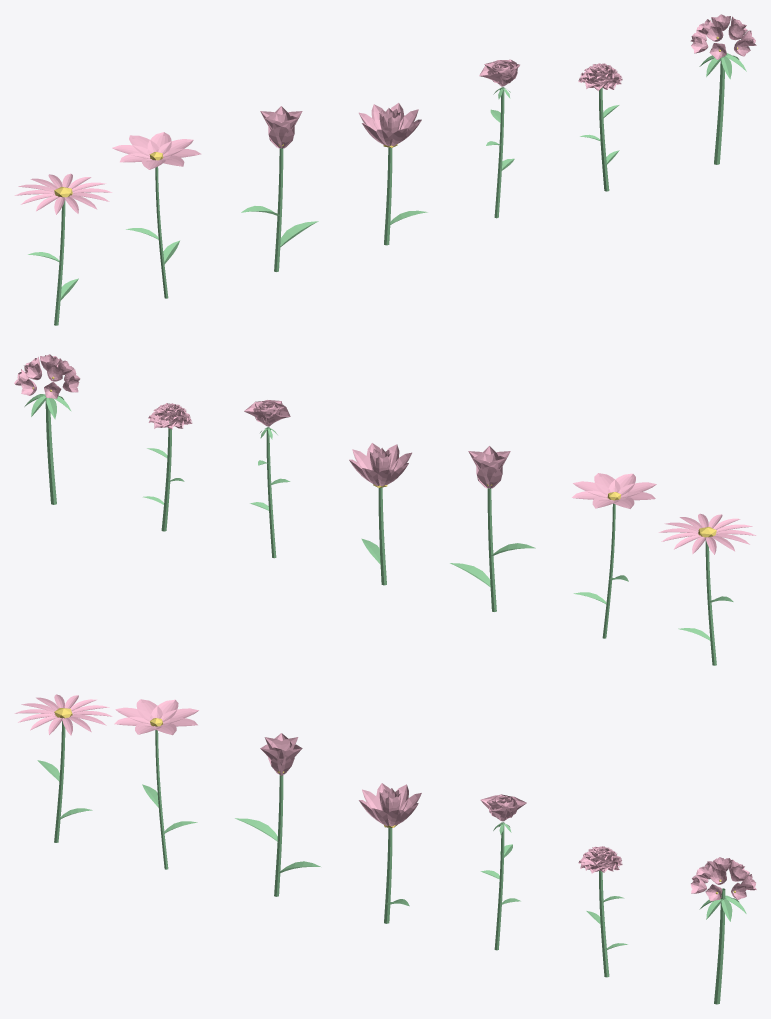
File: flowers.glb
3 views of the same model, one above another, from view 1: azimuth 30°, elevation 25°; view 2: azimuth 150°, elevation 25°; view 3: azimuth 330°, elevation 25° (orthographic).
Visible parts, largest first — view 1: Stem.002, Stem.006, Stem, Stem.004, Stem.003, Stem.001; view 2: Stem.002, Stem.006, Stem, Stem.004, Stem.001, Stem.003; view 3: Stem.006, Stem.002, Stem.001, Stem, Stem.004, Stem.005.
Boxes of the visible parts, x1,y1,x2,y2 form: Stem.002: (274, 148, 283, 271); Stem.006: (714, 56, 724, 164); Stem: (54, 199, 65, 325); Stem.004: (494, 87, 504, 218); Stem.003: (384, 147, 392, 245); Stem.001: (155, 166, 168, 298); Stem.002: (487, 488, 496, 611); Stem.006: (45, 396, 56, 504); Stem: (705, 539, 716, 665); Stem.004: (266, 427, 276, 558); Stem.001: (602, 503, 615, 638); Stem.003: (378, 487, 386, 585); Stem.006: (714, 888, 725, 1004); Stem.002: (274, 775, 283, 896); Stem.001: (155, 730, 168, 869); Stem: (54, 720, 65, 842); Stem.004: (494, 822, 504, 950); Stem.005: (599, 870, 609, 977).
Bounding box in the file's own units: 5.97 × 1.22 × 0.688.
